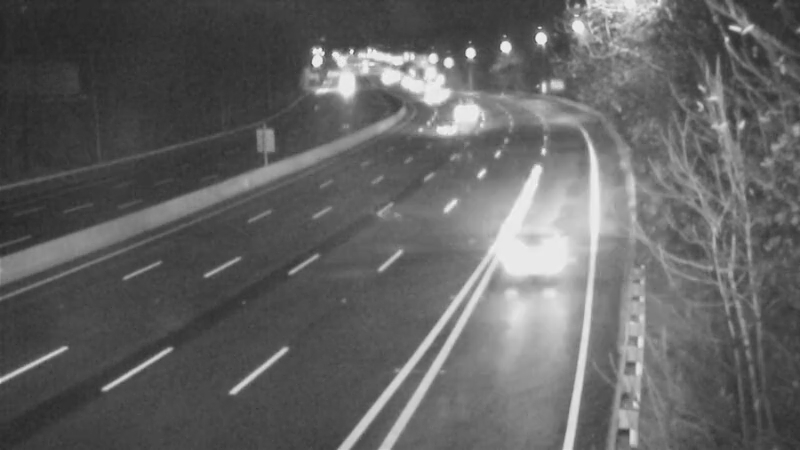vehicle: (494, 201, 574, 281), (407, 74, 457, 124), (442, 87, 492, 137), (420, 108, 470, 158)
